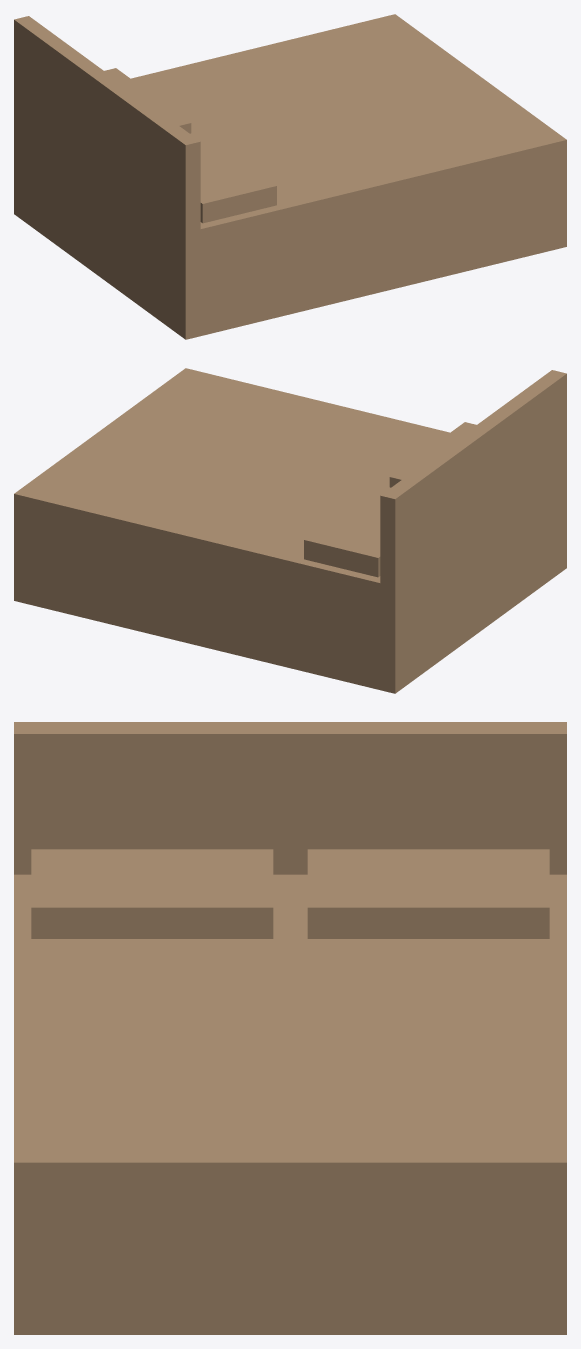
File: bed-queen-1600.glb
3 renders of one model, top to bottom at view 1: azimuth 30°, elevation 25°; view 2: azimuth 150°, elevation 25°; view 3: azimuth 270°, elevation 25°, orthographic. The views are drawn at different scales.
Visible parts, largest first — view 1: bed-queen-1600; view 2: bed-queen-1600; view 3: bed-queen-1600.
Boxes of the visible parts, x1=… form: bed-queen-1600: x1=14, y1=14, x2=566, y2=339; bed-queen-1600: x1=14, y1=368, x2=566, y2=693; bed-queen-1600: x1=14, y1=722, x2=566, y2=1334.
Size of the model in its own units: 2.05 by 1 by 1.6.
